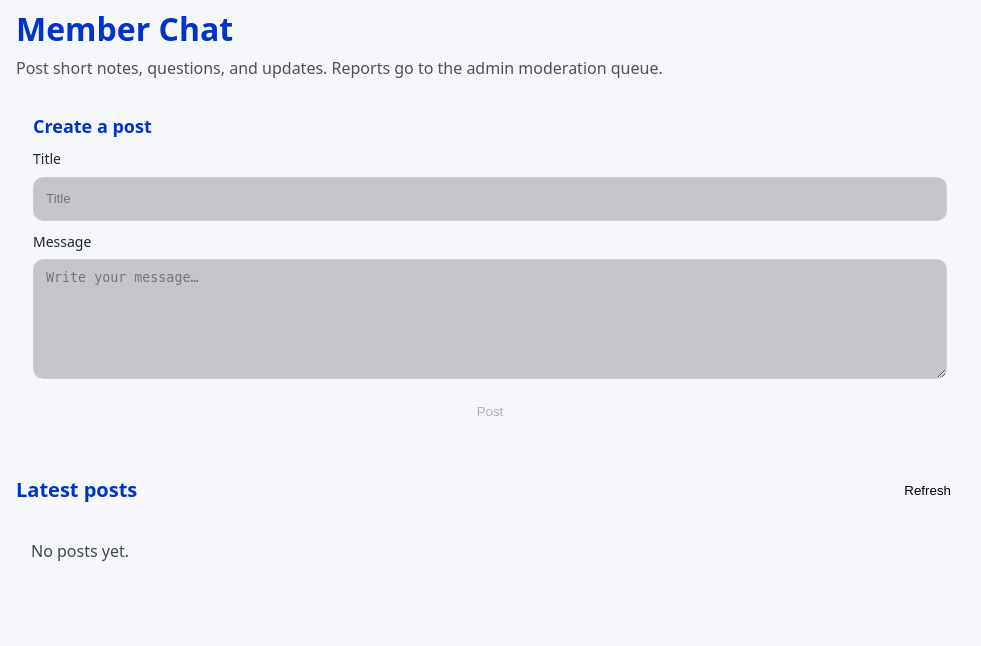
Scenario: Fan Club operational pages › surfaces chat post failures instead of failing silently
Expected: the text "No posts yet." is shown, [16,524,964,580]
Type "Hello club" into the field with placeholder "Title" at coordinates (490, 199), box [33,177,947,221]
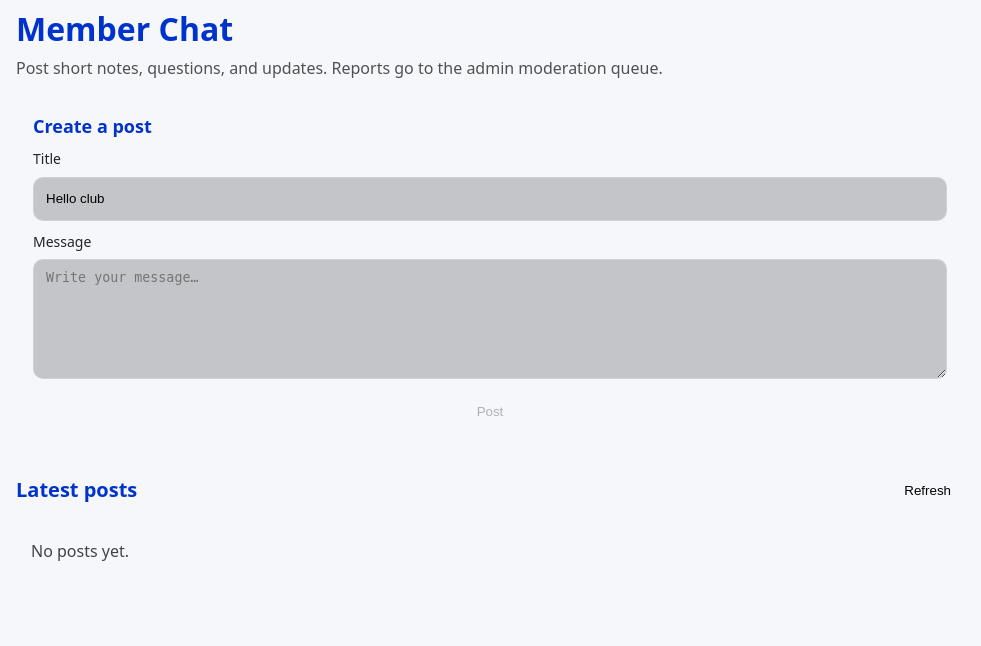
Type "Checking in today" into the text box with placeholder "Write your message…" at coordinates (490, 319), box [33,259,947,379]
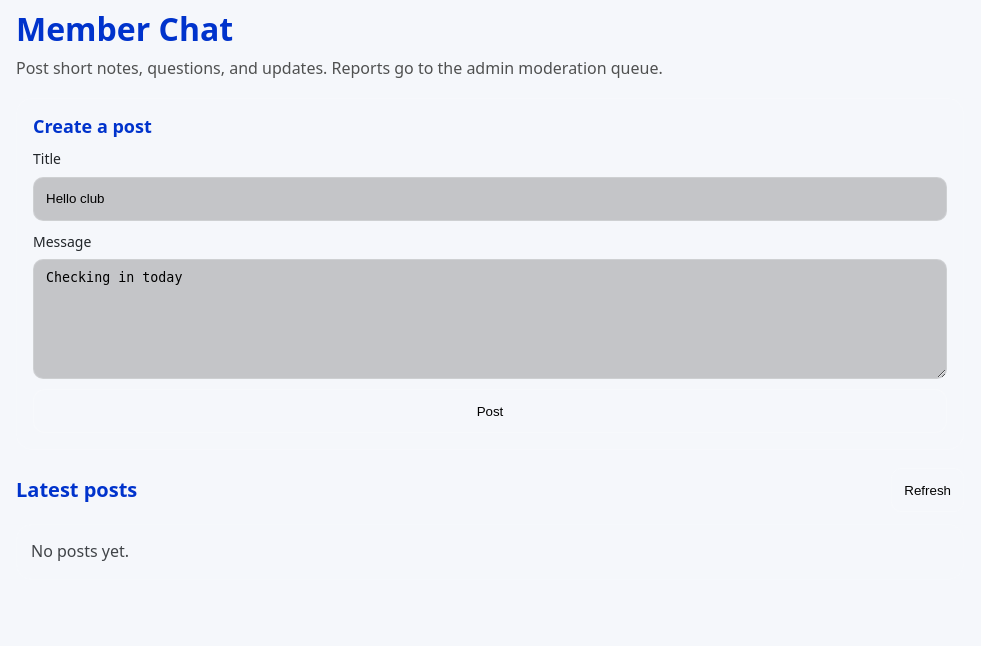
Click the button "Post" at coordinates (490, 411), box [33,389,947,433]
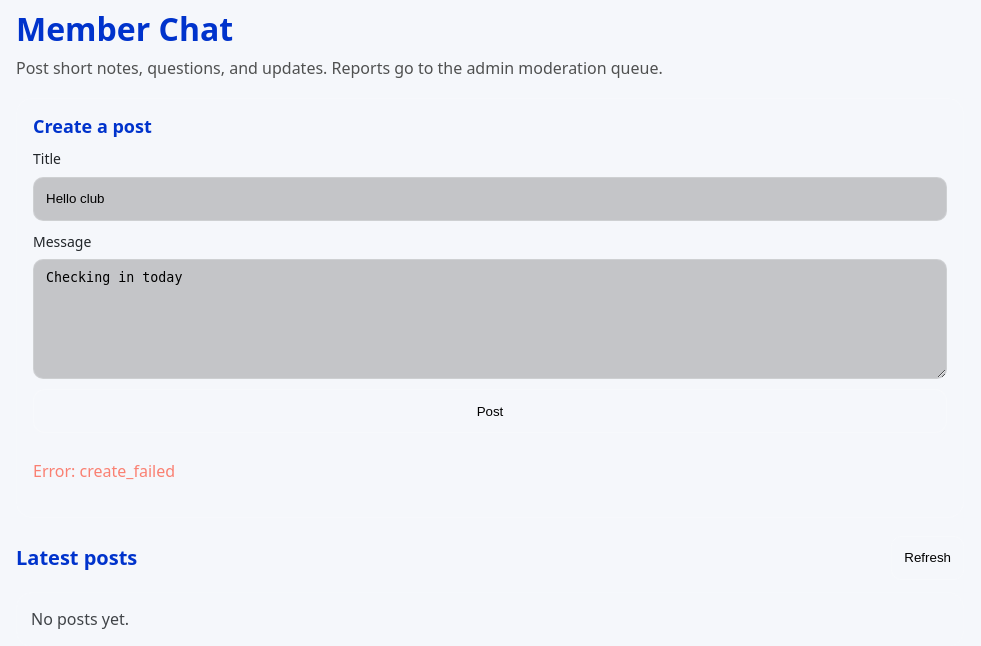
Expected: the text "Error: create_failed" is shown, [33,460,175,482]
